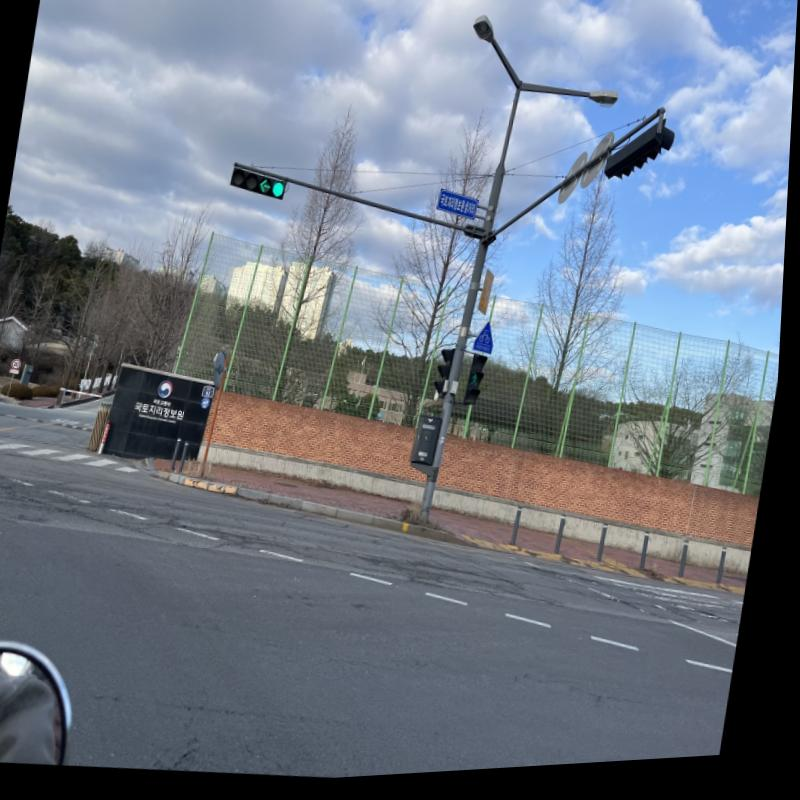green: (273, 185, 289, 203)
left: (260, 179, 277, 199)
